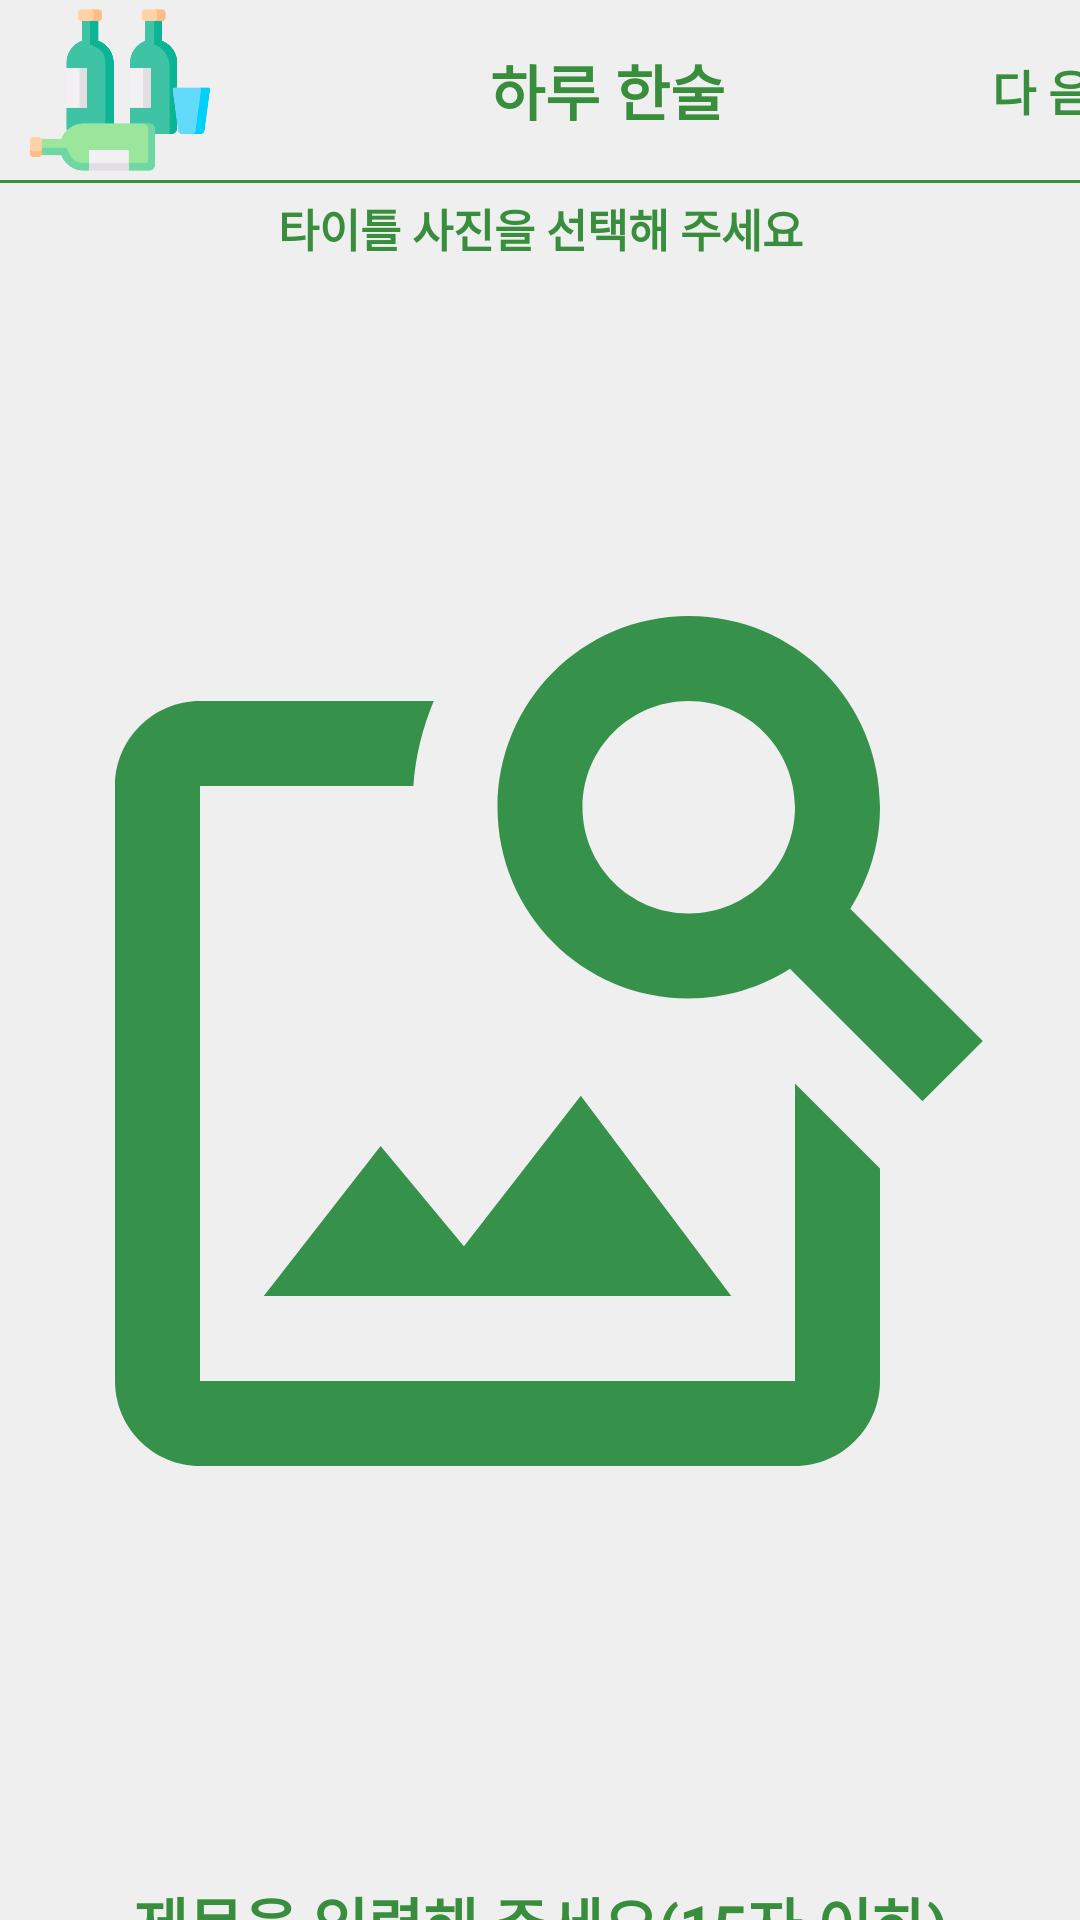

Icon bounding boxes for this 1080 × 1920 phone screenshot, format Rect(x1, y1, x2, y2):
drunk: Rect(30, 9, 210, 171)
